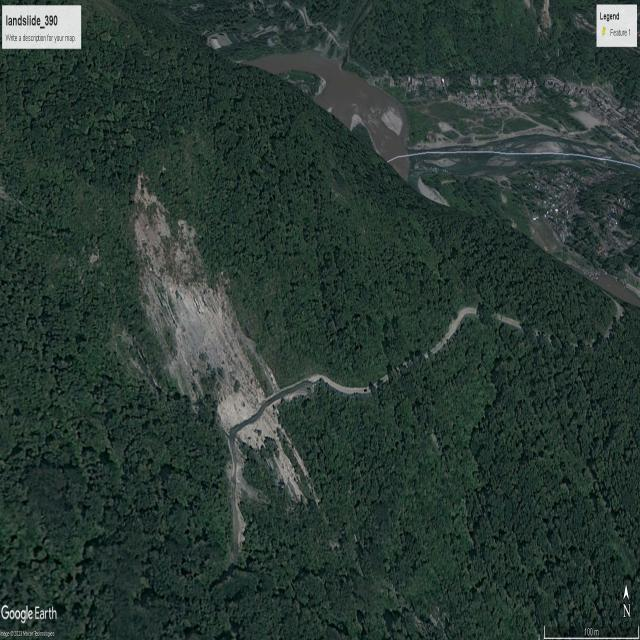Landslide: (170, 289, 267, 405), (243, 432, 305, 496)
